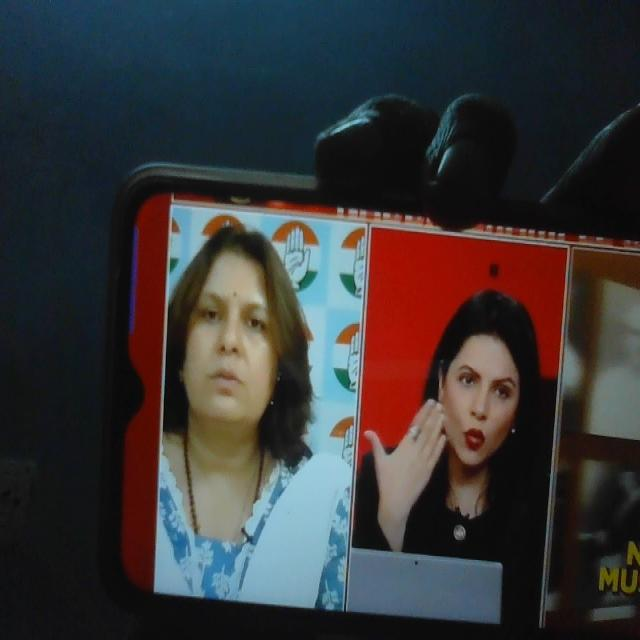fake: (173, 208, 295, 439), (421, 284, 536, 501)
